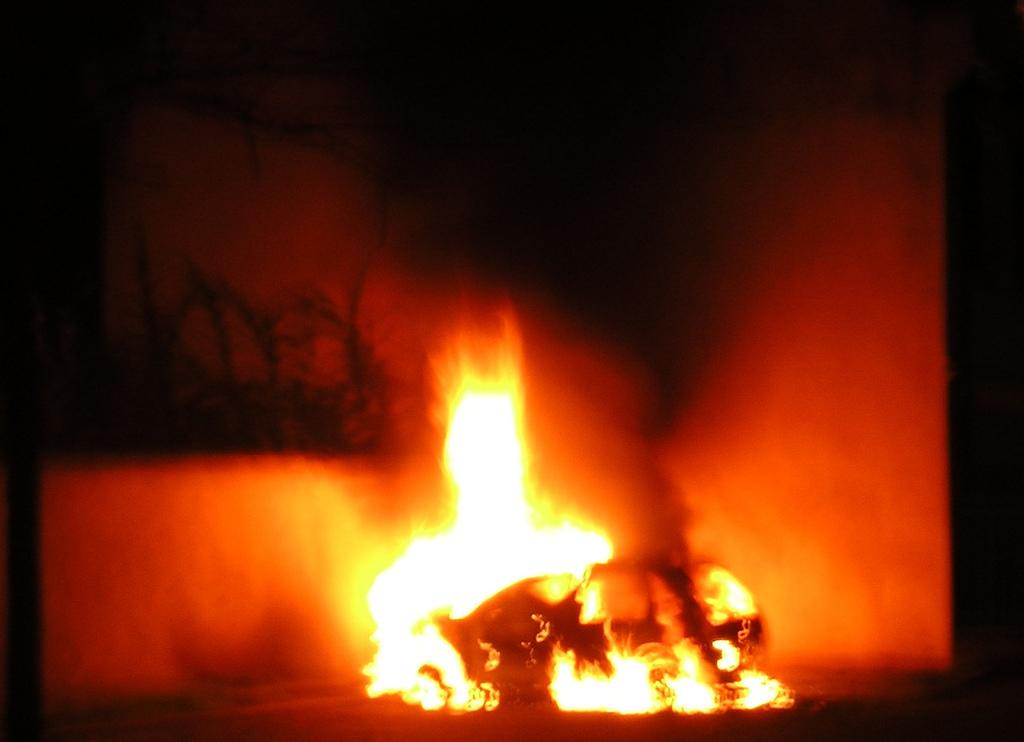fire: (446, 376, 528, 582), (370, 544, 446, 692), (568, 656, 778, 708)
